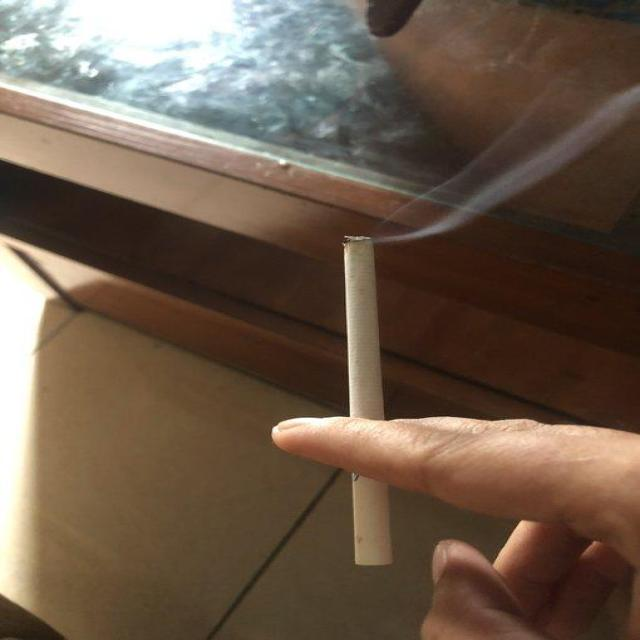rokok: (329, 228, 401, 574)
